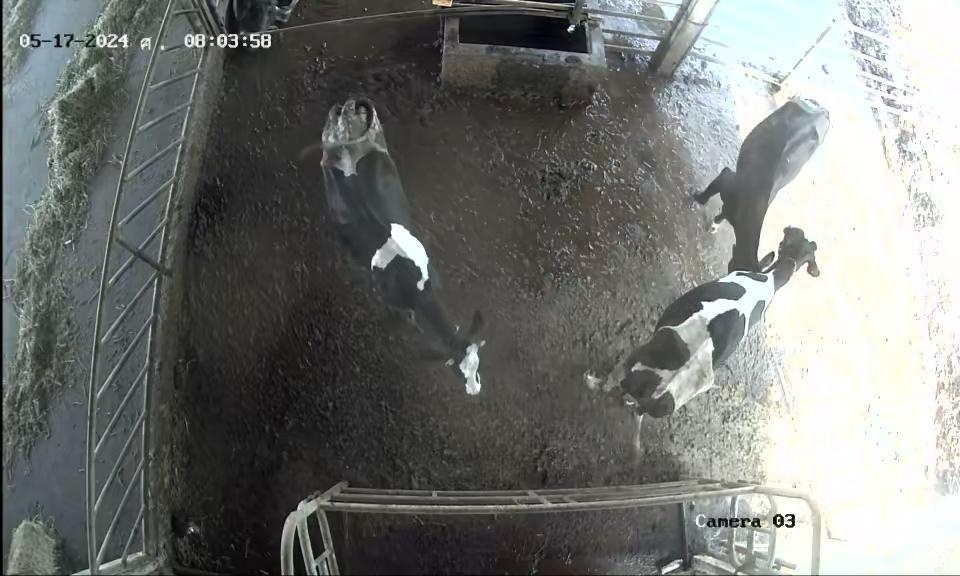stand: (286, 74, 516, 408), (588, 222, 838, 445), (687, 73, 825, 278)
